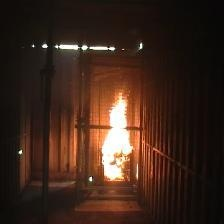fire: (98, 91, 142, 186)
